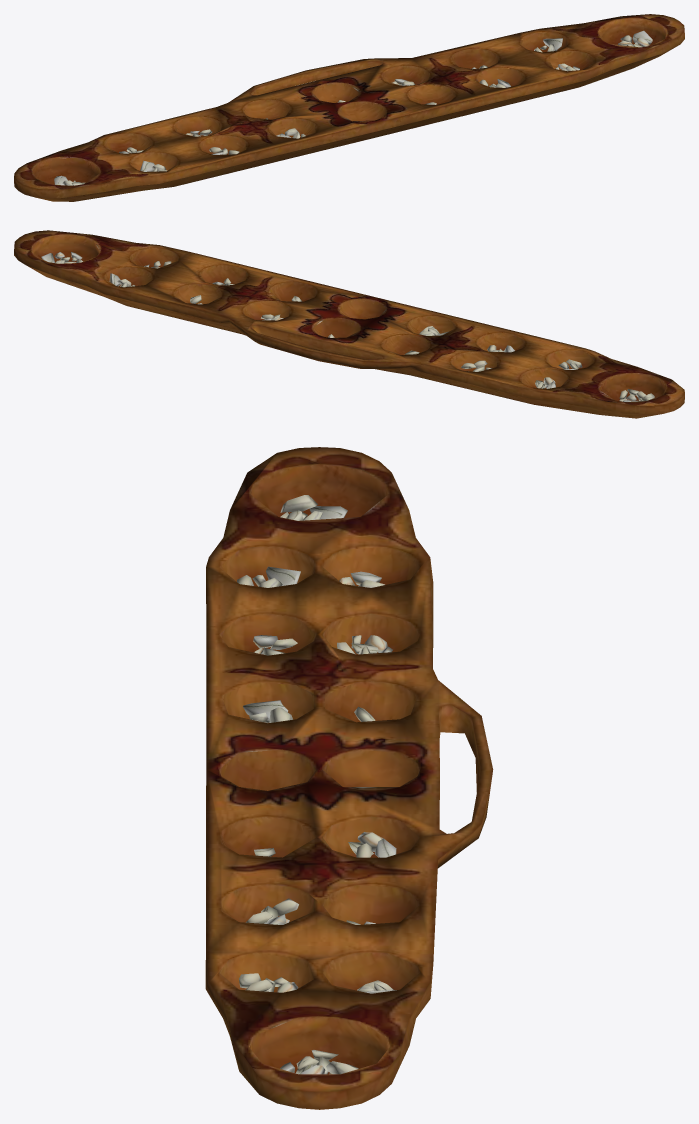
File: sungka_board_02.glb
3 renders of one model, top to bottom at view 1: azimuth 30°, elevation 25°; view 2: azimuth 150°, elevation 25°; view 3: azimuth 270°, elevation 25°, orthographic. The views are drawn at different scales.
Parts seen in each view (by area): view 1: sungka_board_02; view 2: sungka_board_02; view 3: sungka_board_02.
Part boxes in pixels (left/top/right/bottom): sungka_board_02: left=14, top=14, right=684, bottom=201; sungka_board_02: left=14, top=230, right=684, bottom=418; sungka_board_02: left=205, top=447, right=493, bottom=1109.
Bounding box in the file's own units: 0.9317 × 0.0257 × 0.1753.
1 material, 1 textured.
